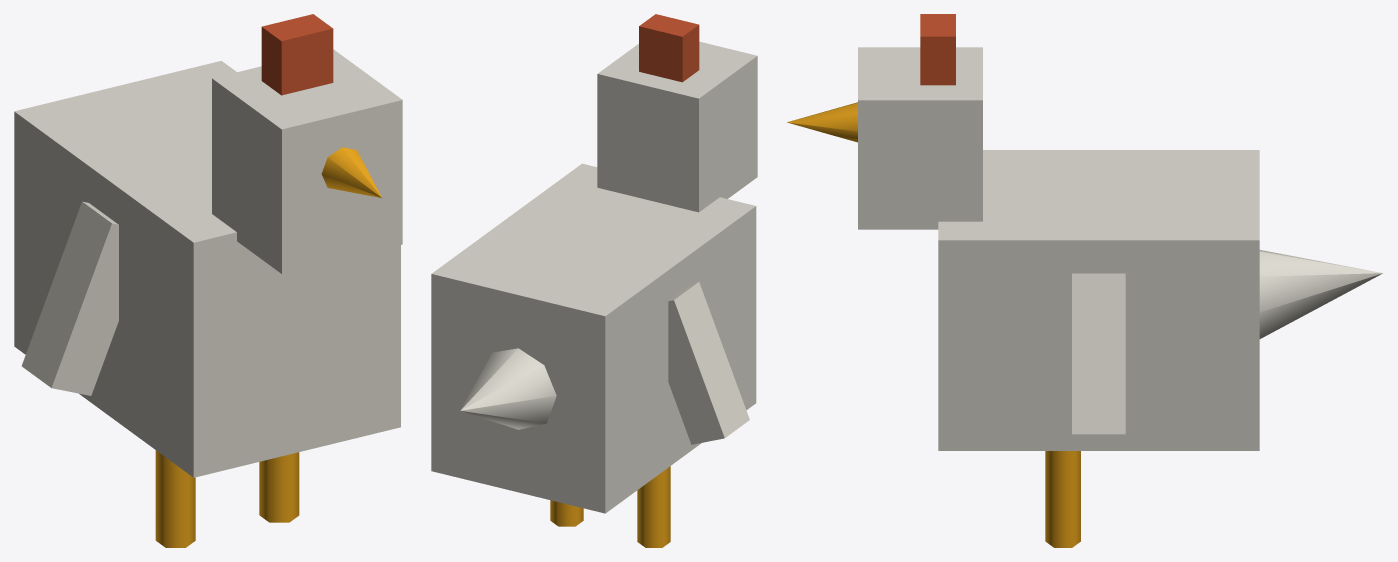
File: chicken.glb
3 renders of one model, left to right at view 1: azimuth 30°, elevation 25°; view 2: azimuth 150°, elevation 25°; view 3: azimuth 270°, elevation 25°, orthographic. The views are drawn at different scales.
Parts seen in each view (by area): view 1: chicken; view 2: chicken; view 3: chicken.
Part boxes in pixels (x1=…): chicken: x1=14, y1=14, x2=402, y2=547; chicken: x1=431, y1=14, x2=757, y2=547; chicken: x1=787, y1=14, x2=1382, y2=547.
Size of the model in its own units: 0.3961 by 0.61 by 0.6688.
